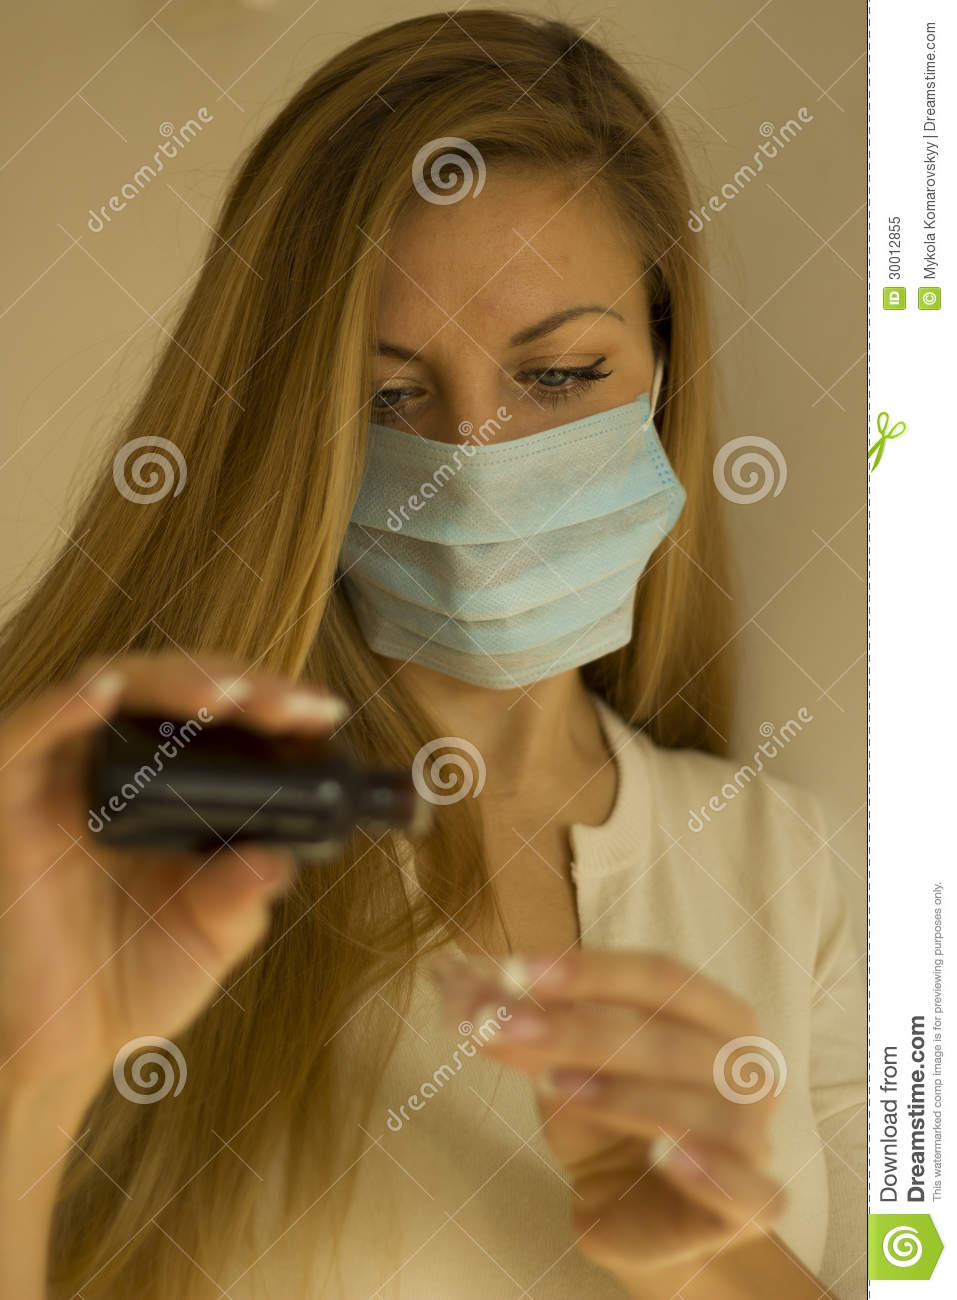mask: (332, 399, 689, 692)
